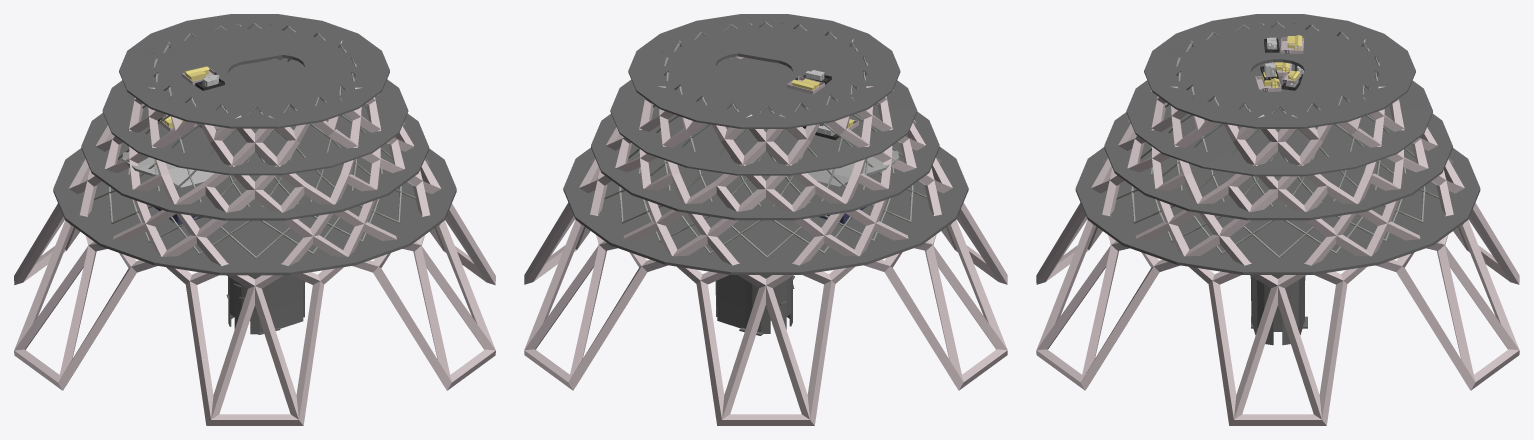
Rendered from The_level_BACKGROUND_DOCKS_ONLY.fbx.
3 views of the same model, side by side, from view 1: azimuth 30°, elevation 25°; view 2: azimuth 150°, elevation 25°; view 3: azimuth 270°, elevation 25° (orthographic).
Visible parts, largest first — view 1: Cylinder.006 Floor, Cylinder.004 thick walls, Cylinder.005 thin wall, Cylinder.006 Docks beam.013, Cube.219; view 2: Cylinder.006 Floor, Cylinder.004 thick walls, Cylinder.005 thin wall, Cylinder.006 Docks beam.013, Cube.219; view 3: Cylinder.006 Floor, Cylinder.004 thick walls, Cylinder.005 thin wall, Cylinder.006 Docks beam.013.
Boxes of the visible parts, x1,y1,x2,y2 form: Cylinder.006 Floor: (53, 14, 456, 275); Cylinder.004 thick walls: (14, 24, 495, 425); Cylinder.005 thin wall: (94, 23, 415, 258); Cylinder.006 Docks beam.013: (228, 275, 305, 334); Cube.219: (122, 151, 214, 225); Cylinder.006 Floor: (563, 14, 968, 274); Cylinder.004 thick walls: (524, 22, 1007, 425); Cylinder.005 thin wall: (604, 21, 927, 258); Cylinder.006 Docks beam.013: (715, 275, 792, 333); Cube.219: (807, 150, 899, 224); Cylinder.006 Floor: (1075, 14, 1480, 274); Cylinder.004 thick walls: (1036, 22, 1519, 425); Cylinder.005 thin wall: (1116, 21, 1439, 258); Cylinder.006 Docks beam.013: (1250, 275, 1305, 345).
Size of what is drawn, in the model's own units: 869214 by 490350 by 828244.
